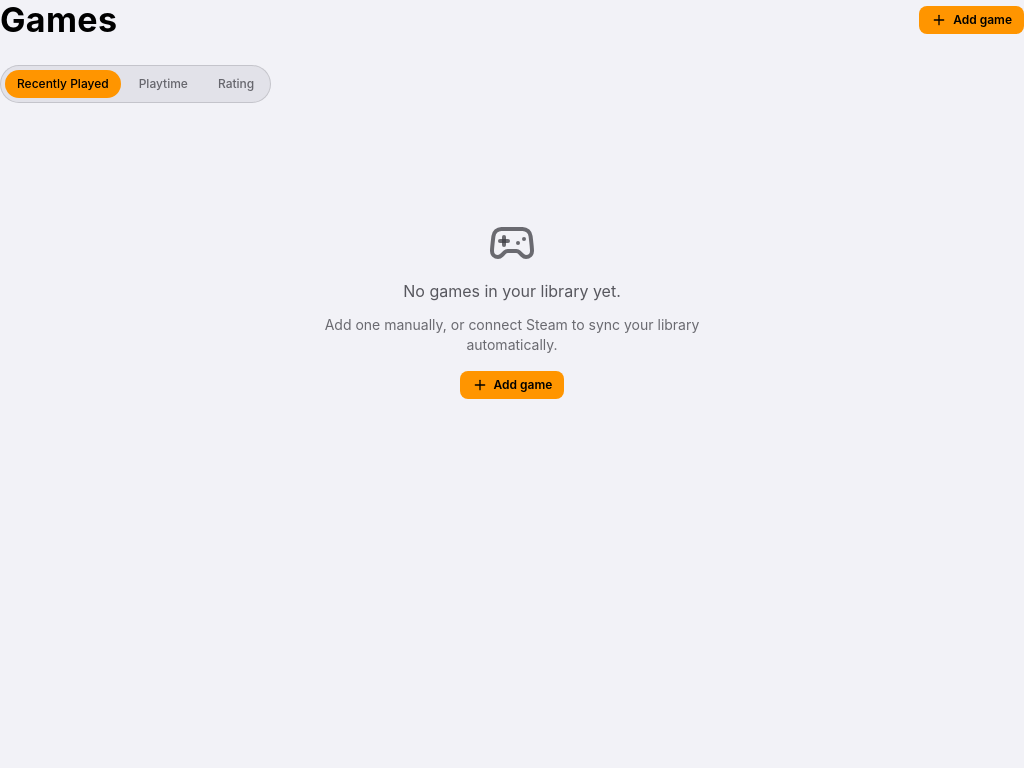
GamesPage library › adds from the empty state's own button
Click the button "Add game" below "No games in your library yet." at (512, 385), box [460,371,564,399]
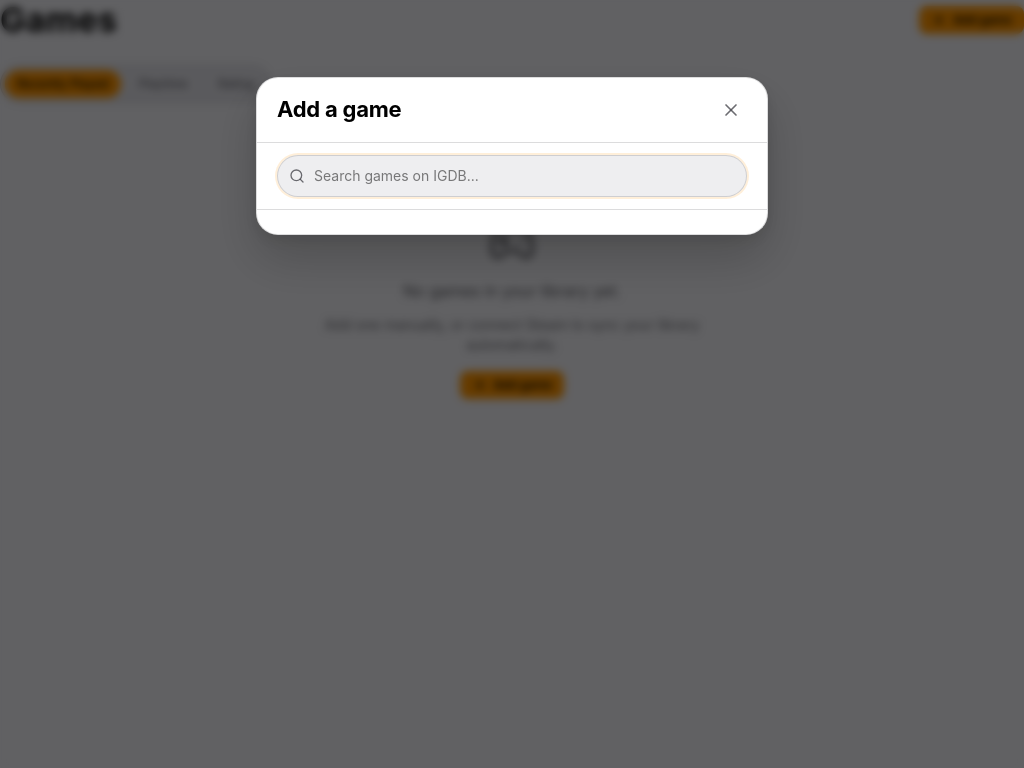
Now the dialog is shown, box [256,77,768,235]
